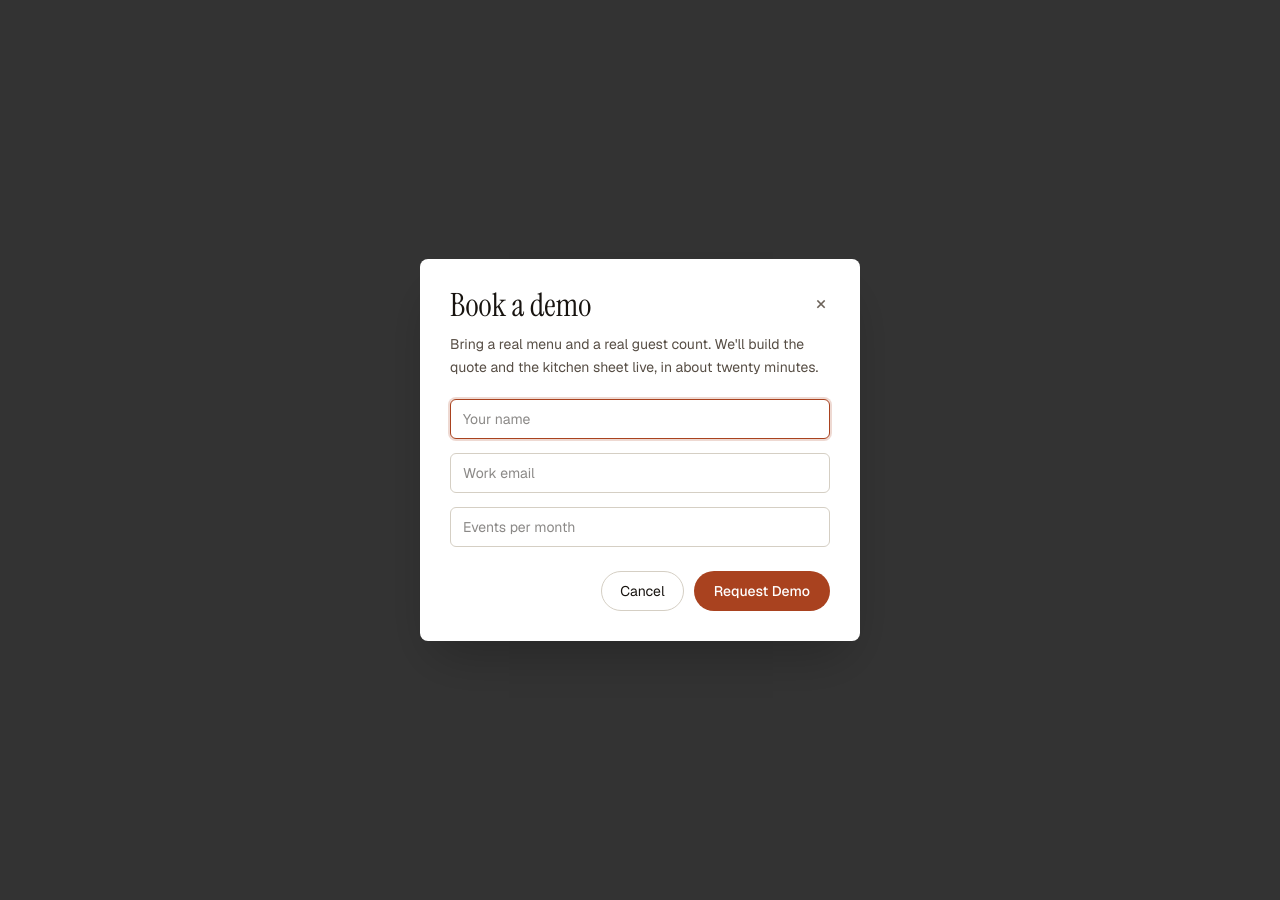
Test: DemoModal (REL-482) › shows the server's own reason rather than a generic failure
Type "Jane Doe" into the field labelled "Your name". click: (640, 418)
box: [450,398,830,438]
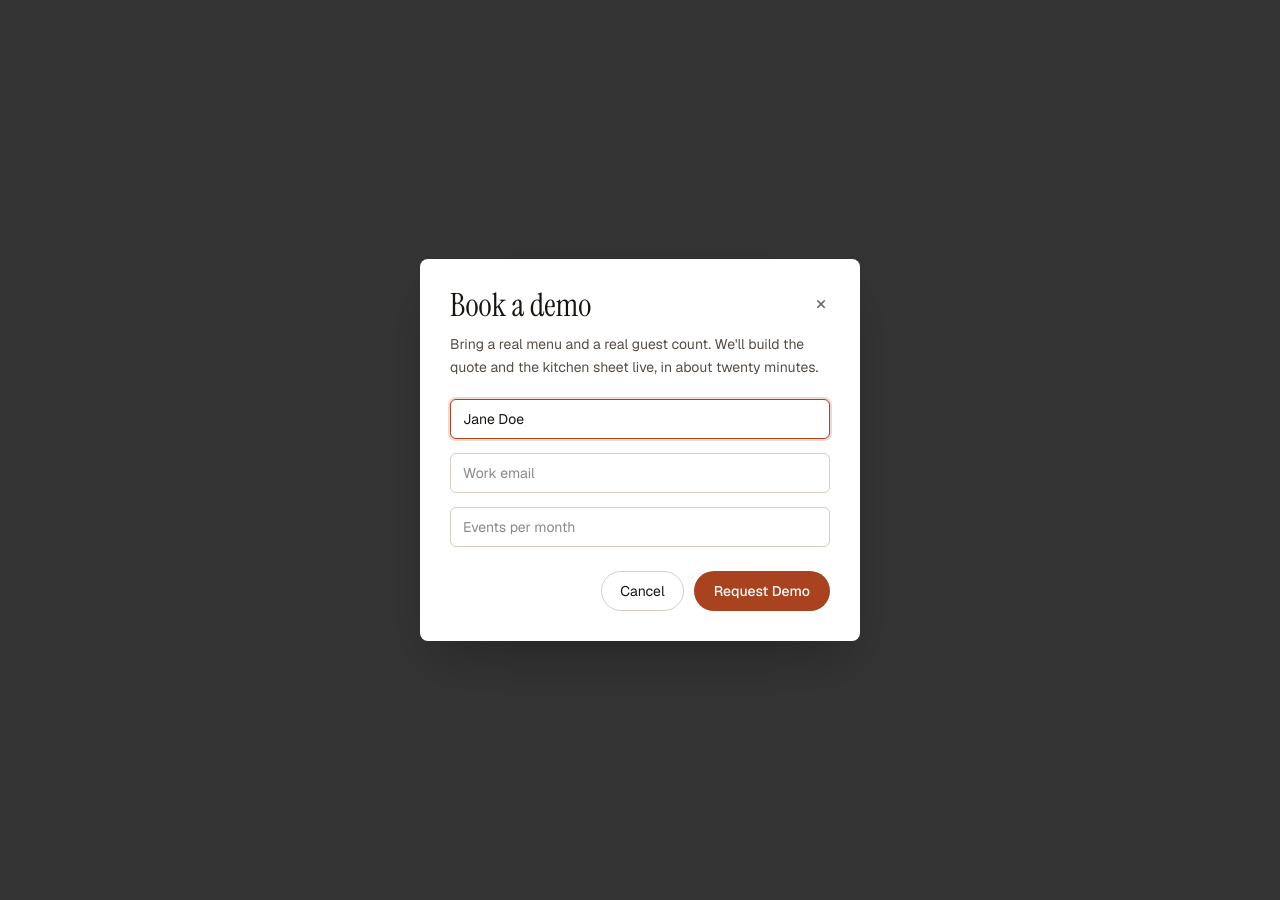
Type "jane@kitchen.com" into the field labelled "Work email". click: (640, 472)
box: [450,452,830,492]
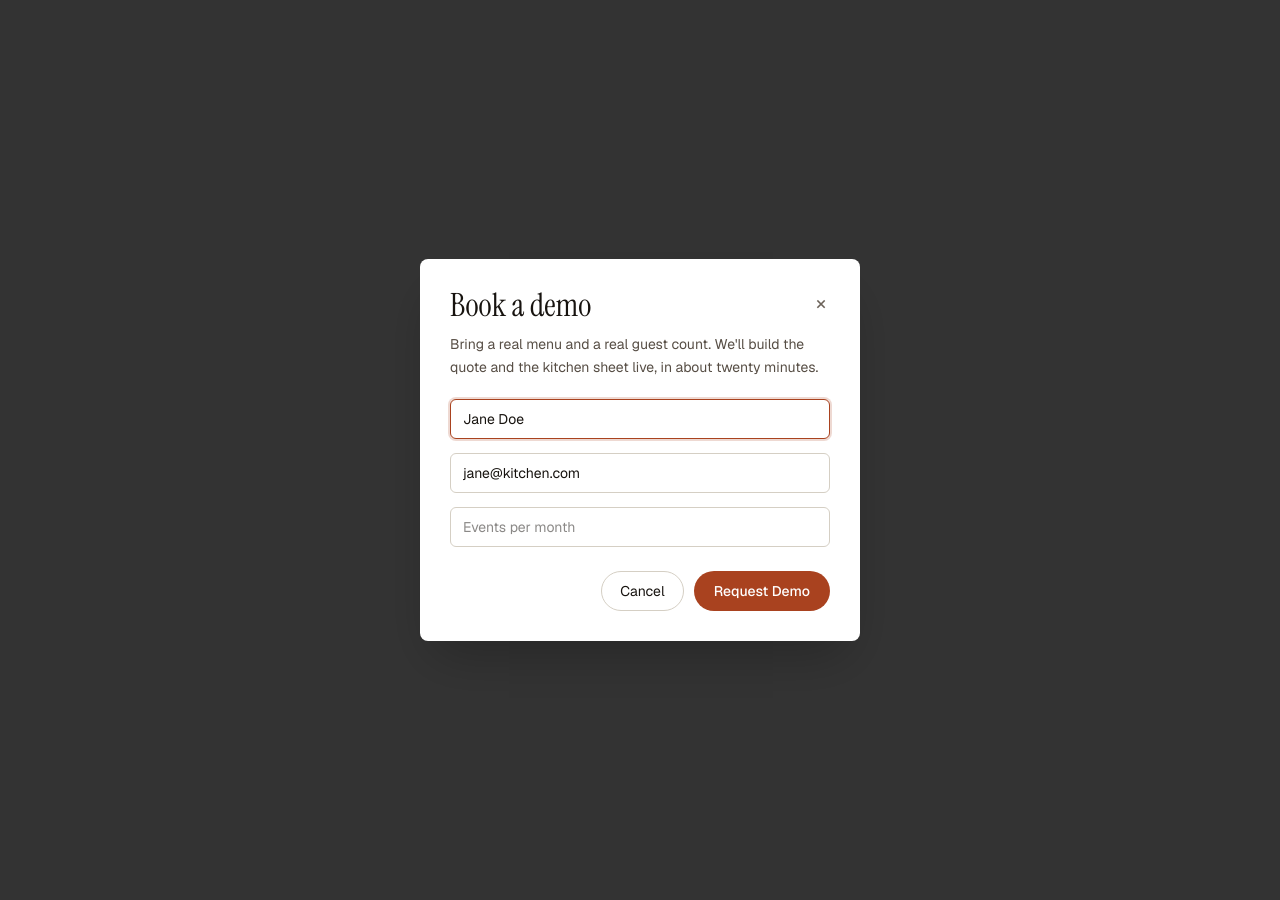
Click the button "Request Demo". click: (762, 590)
box: [694,570,830,610]
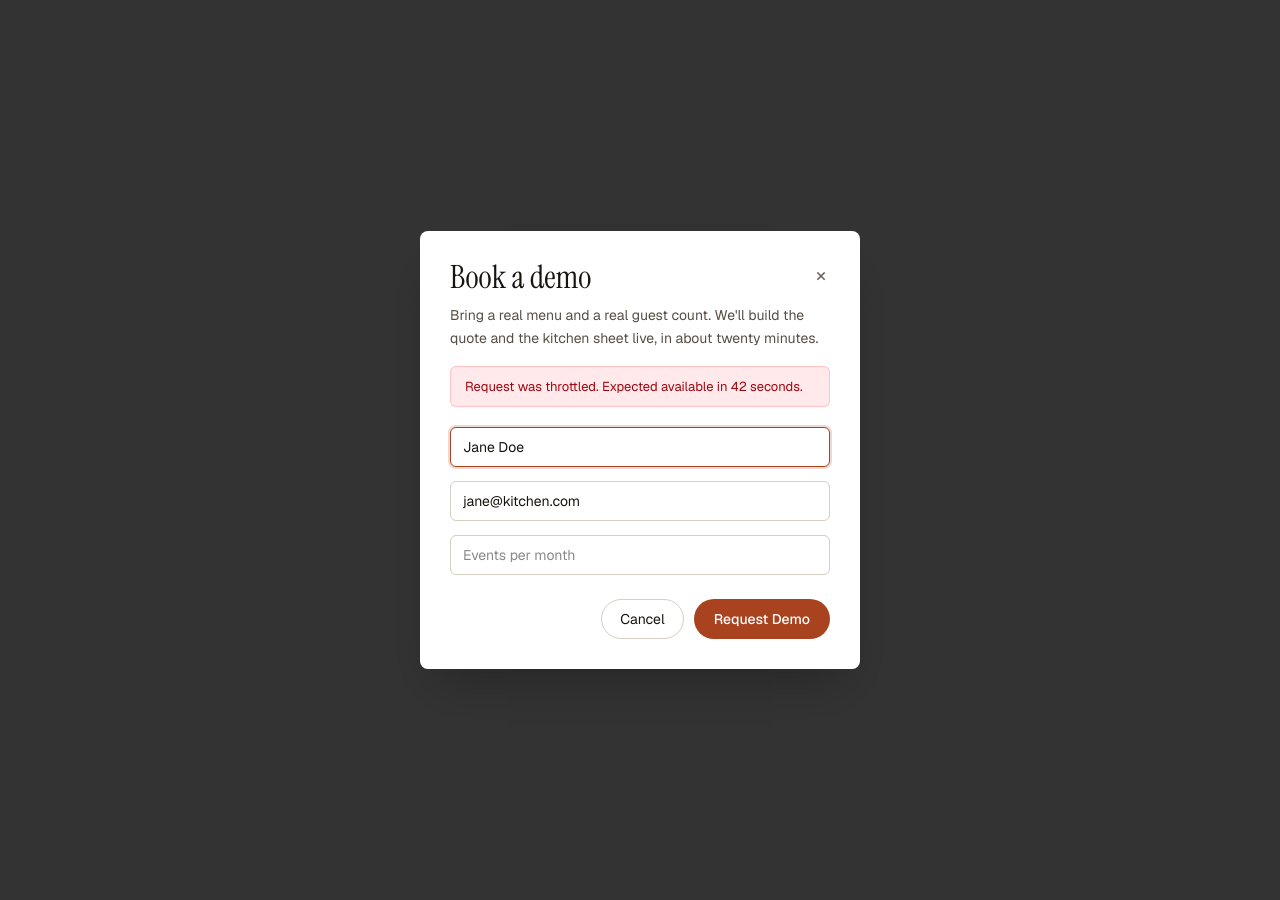
Expected: the text "Request was throttled. Expected available in 42 seconds." is shown, [450,366,830,407]
